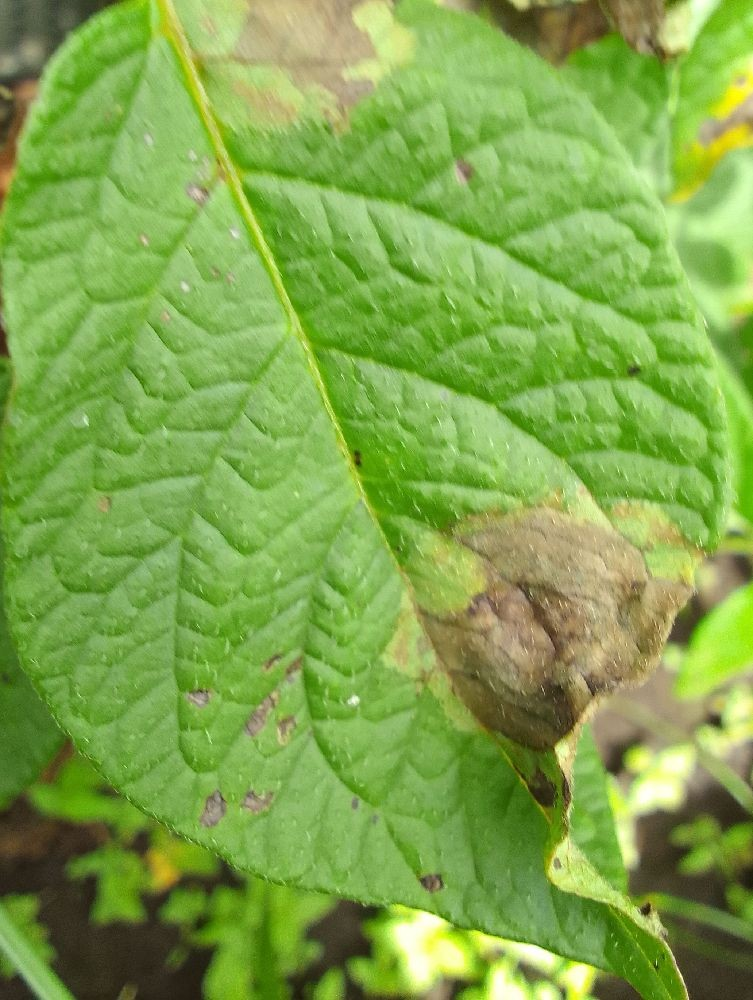late_blight: (378, 483, 752, 821), (0, 759, 273, 1000), (601, 740, 753, 1000), (219, 0, 391, 134)
